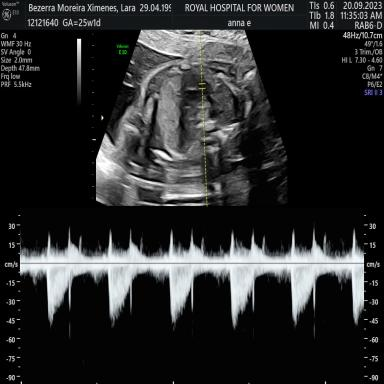Ultrasound-Waves: (28, 216, 362, 382)
